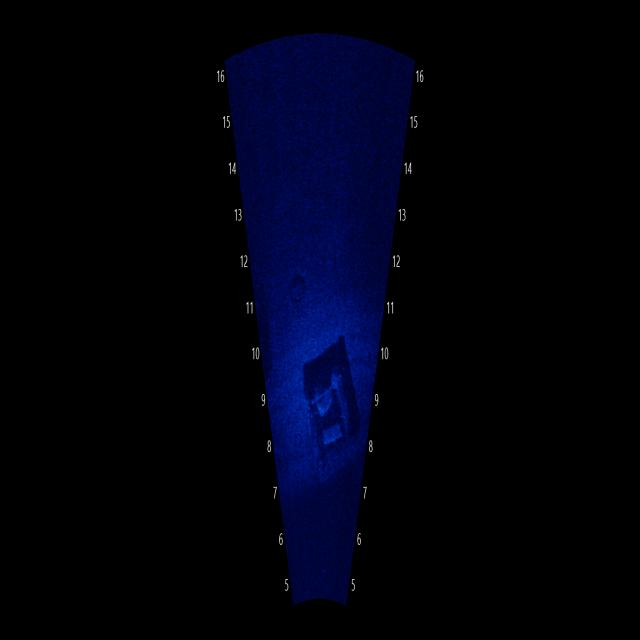square: (296, 322, 365, 475)
